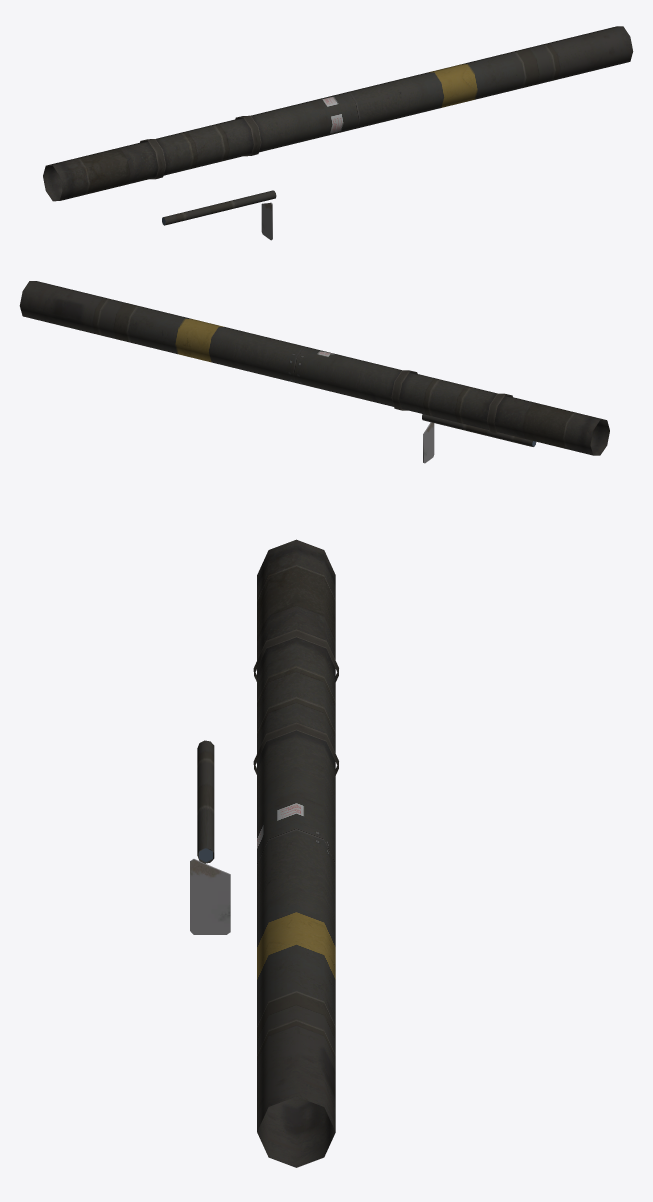
File: weapon_stinger_stow_LOD0.obj
3 renders of one model, top to bottom at view 1: azimuth 30°, elevation 25°; view 2: azimuth 150°, elevation 25°; view 3: azimuth 270°, elevation 25°, orthographic. The views are drawn at different scales.
Parts seen in each view (by area): view 1: mtl_weapon_stinger, mtl_weapon_stinger_glass; view 2: mtl_weapon_stinger, mtl_weapon_stinger_glass; view 3: mtl_weapon_stinger, mtl_weapon_stinger_glass.
Boxes of the visible parts, <box> form: mtl_weapon_stinger: <box>43,26,633,225</box>; mtl_weapon_stinger_glass: <box>162,202,272,240</box>; mtl_weapon_stinger: <box>19,281,609,455</box>; mtl_weapon_stinger_glass: <box>423,422,535,463</box>; mtl_weapon_stinger: <box>197,539,338,1167</box>; mtl_weapon_stinger_glass: <box>190,848,230,934</box>.
Size of the model in its own units: 164 by 29.51 by 33.26.
